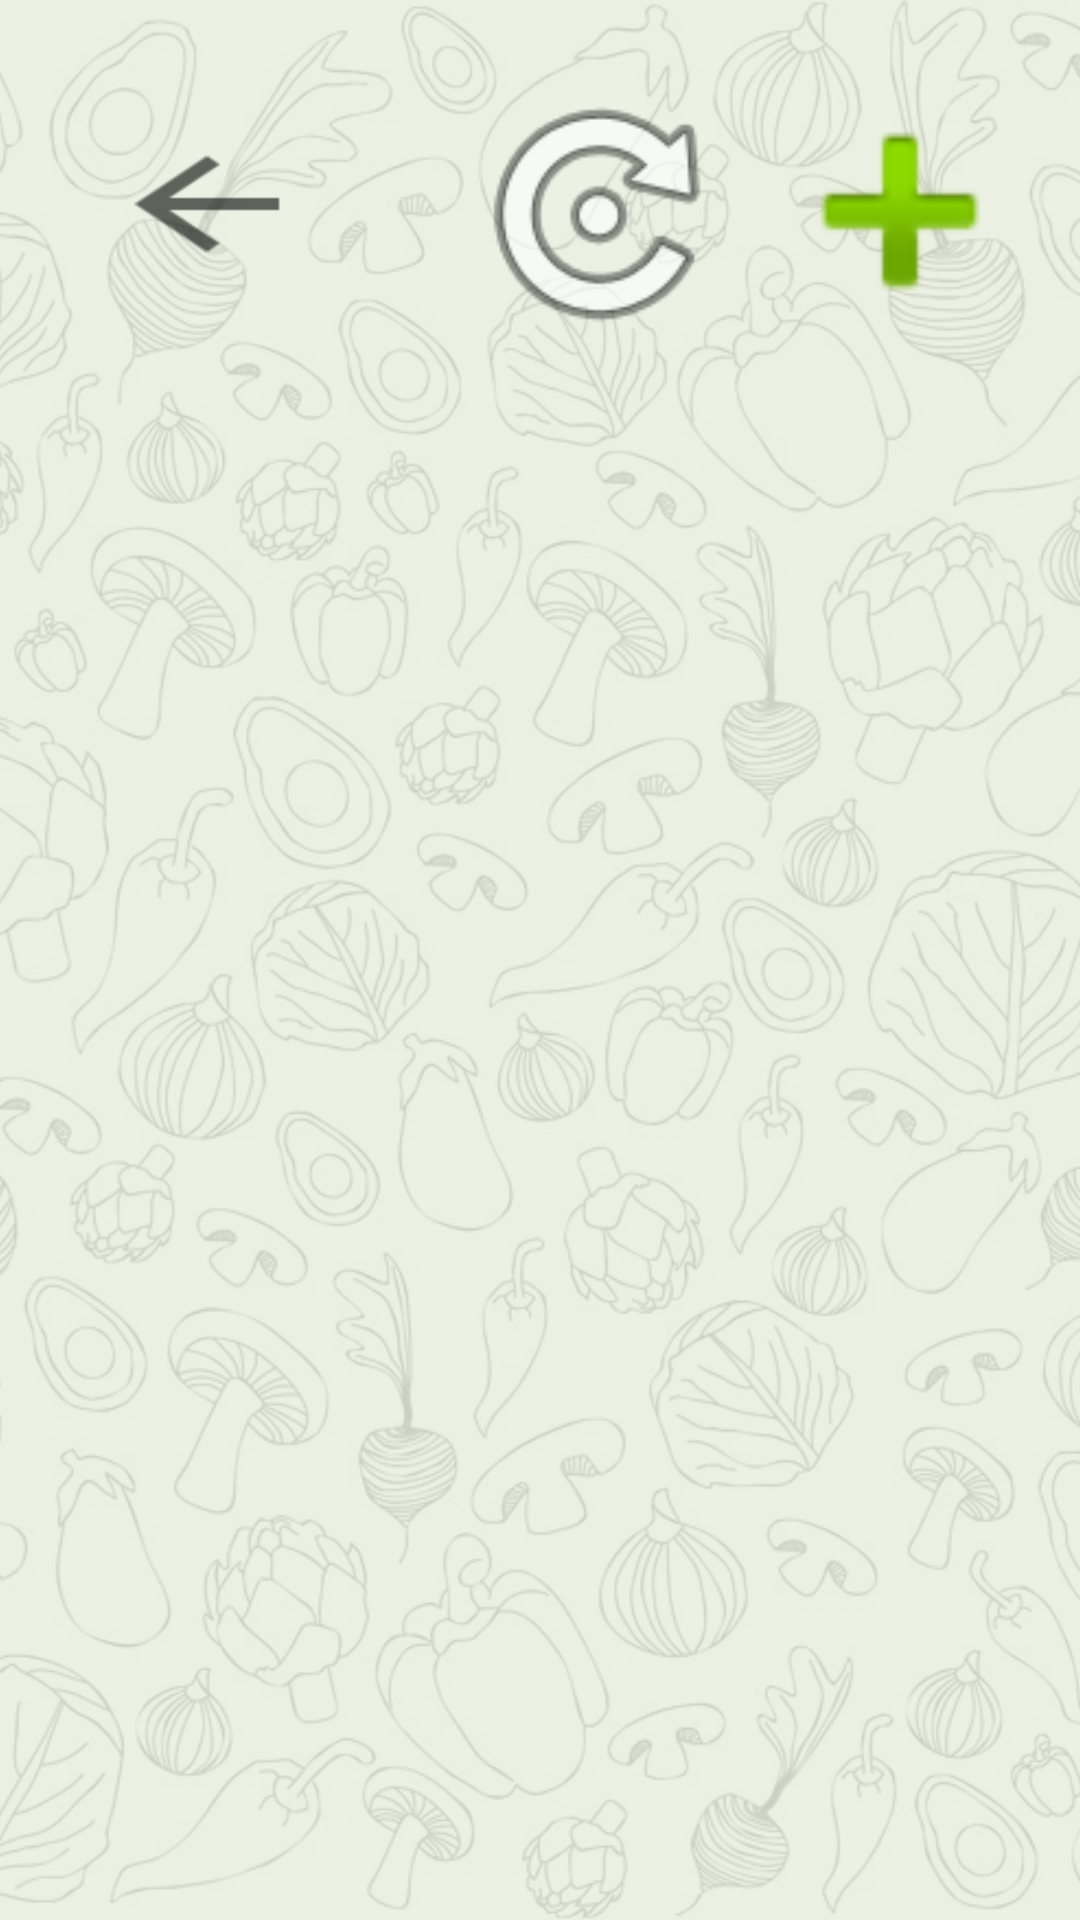

Where to tap for icons on this 1080 × 1920 app screen, as point (x, y):
add: point (900, 211)
rotate: point (596, 213)
